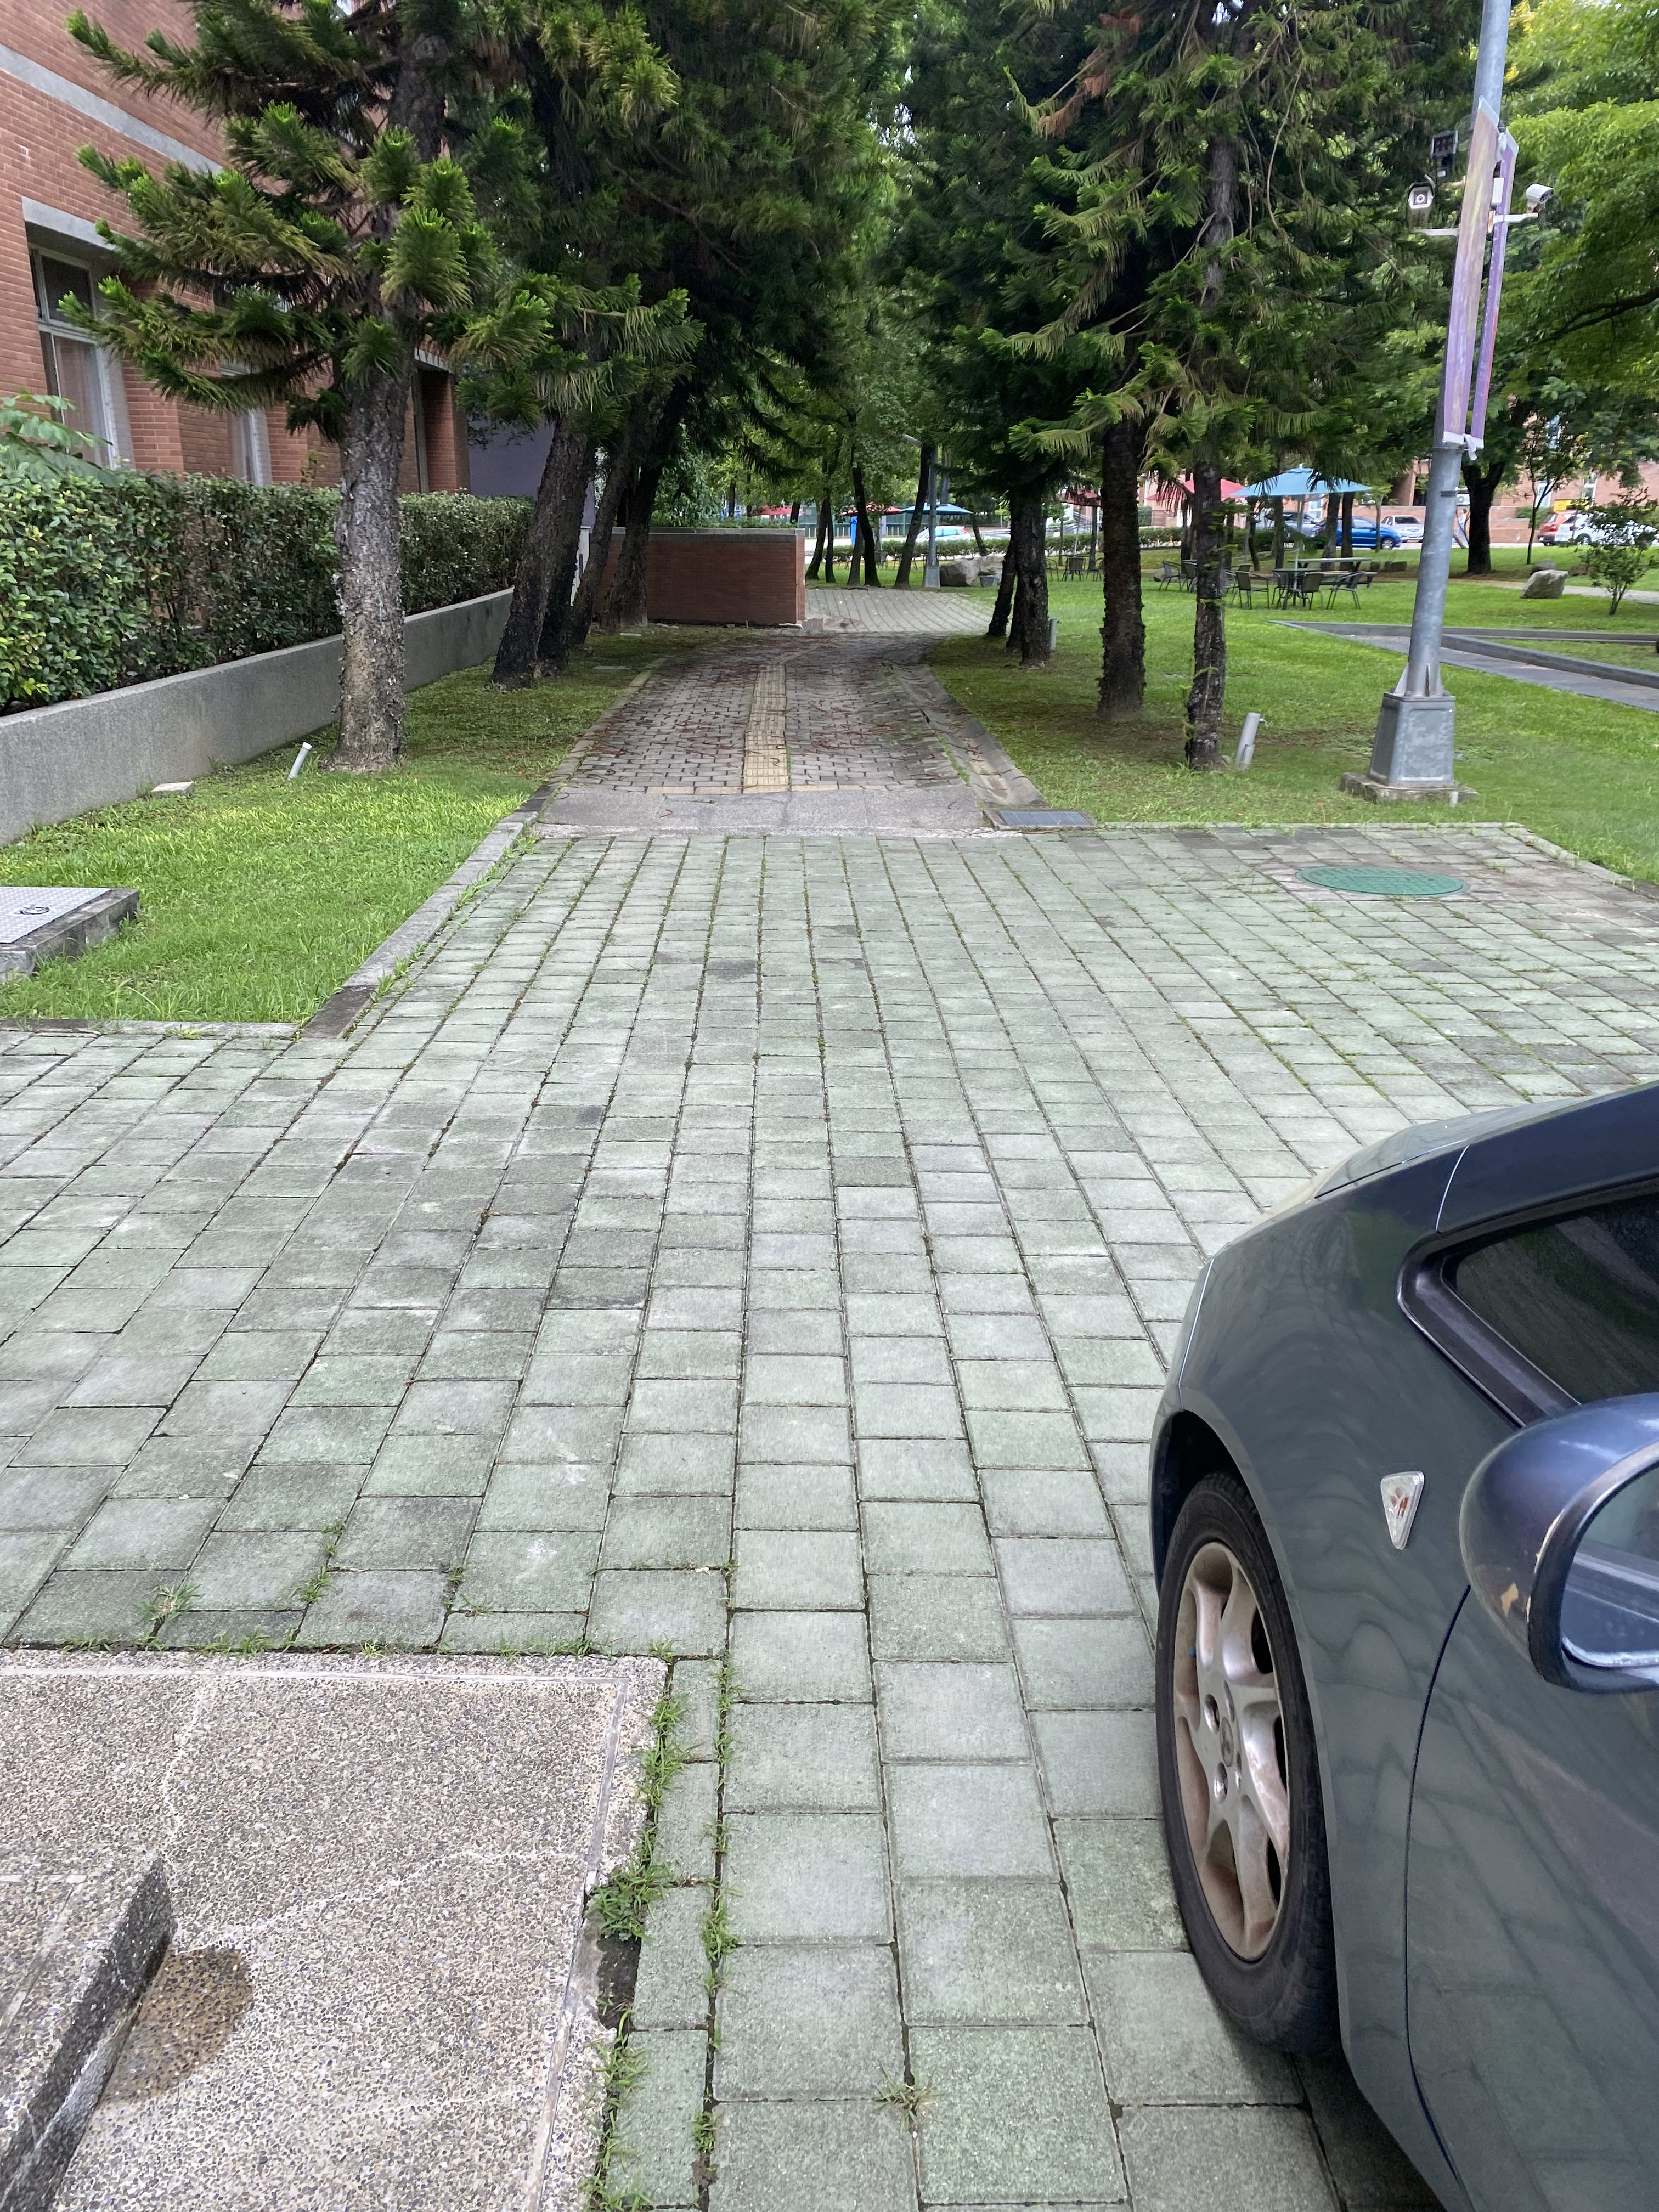sidewalk: (437, 550, 1176, 2125)
